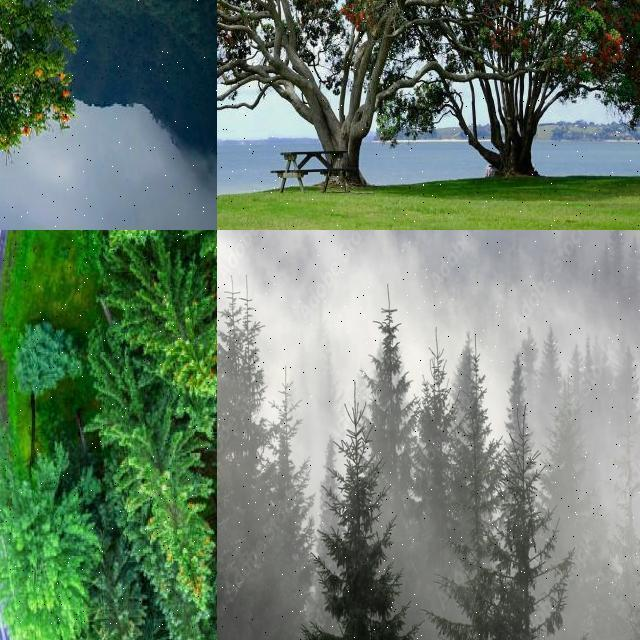tree: (216, 0, 640, 230), (453, 322, 567, 640), (307, 310, 415, 640), (0, 0, 116, 230), (102, 368, 215, 604), (218, 230, 270, 640), (258, 284, 314, 640), (0, 442, 92, 640), (115, 237, 217, 407), (362, 272, 418, 492), (0, 265, 56, 463), (408, 336, 460, 532), (454, 322, 496, 542), (0, 329, 34, 493), (1, 450, 40, 590), (0, 482, 28, 606), (158, 588, 218, 640), (121, 0, 165, 64), (100, 580, 140, 640)
